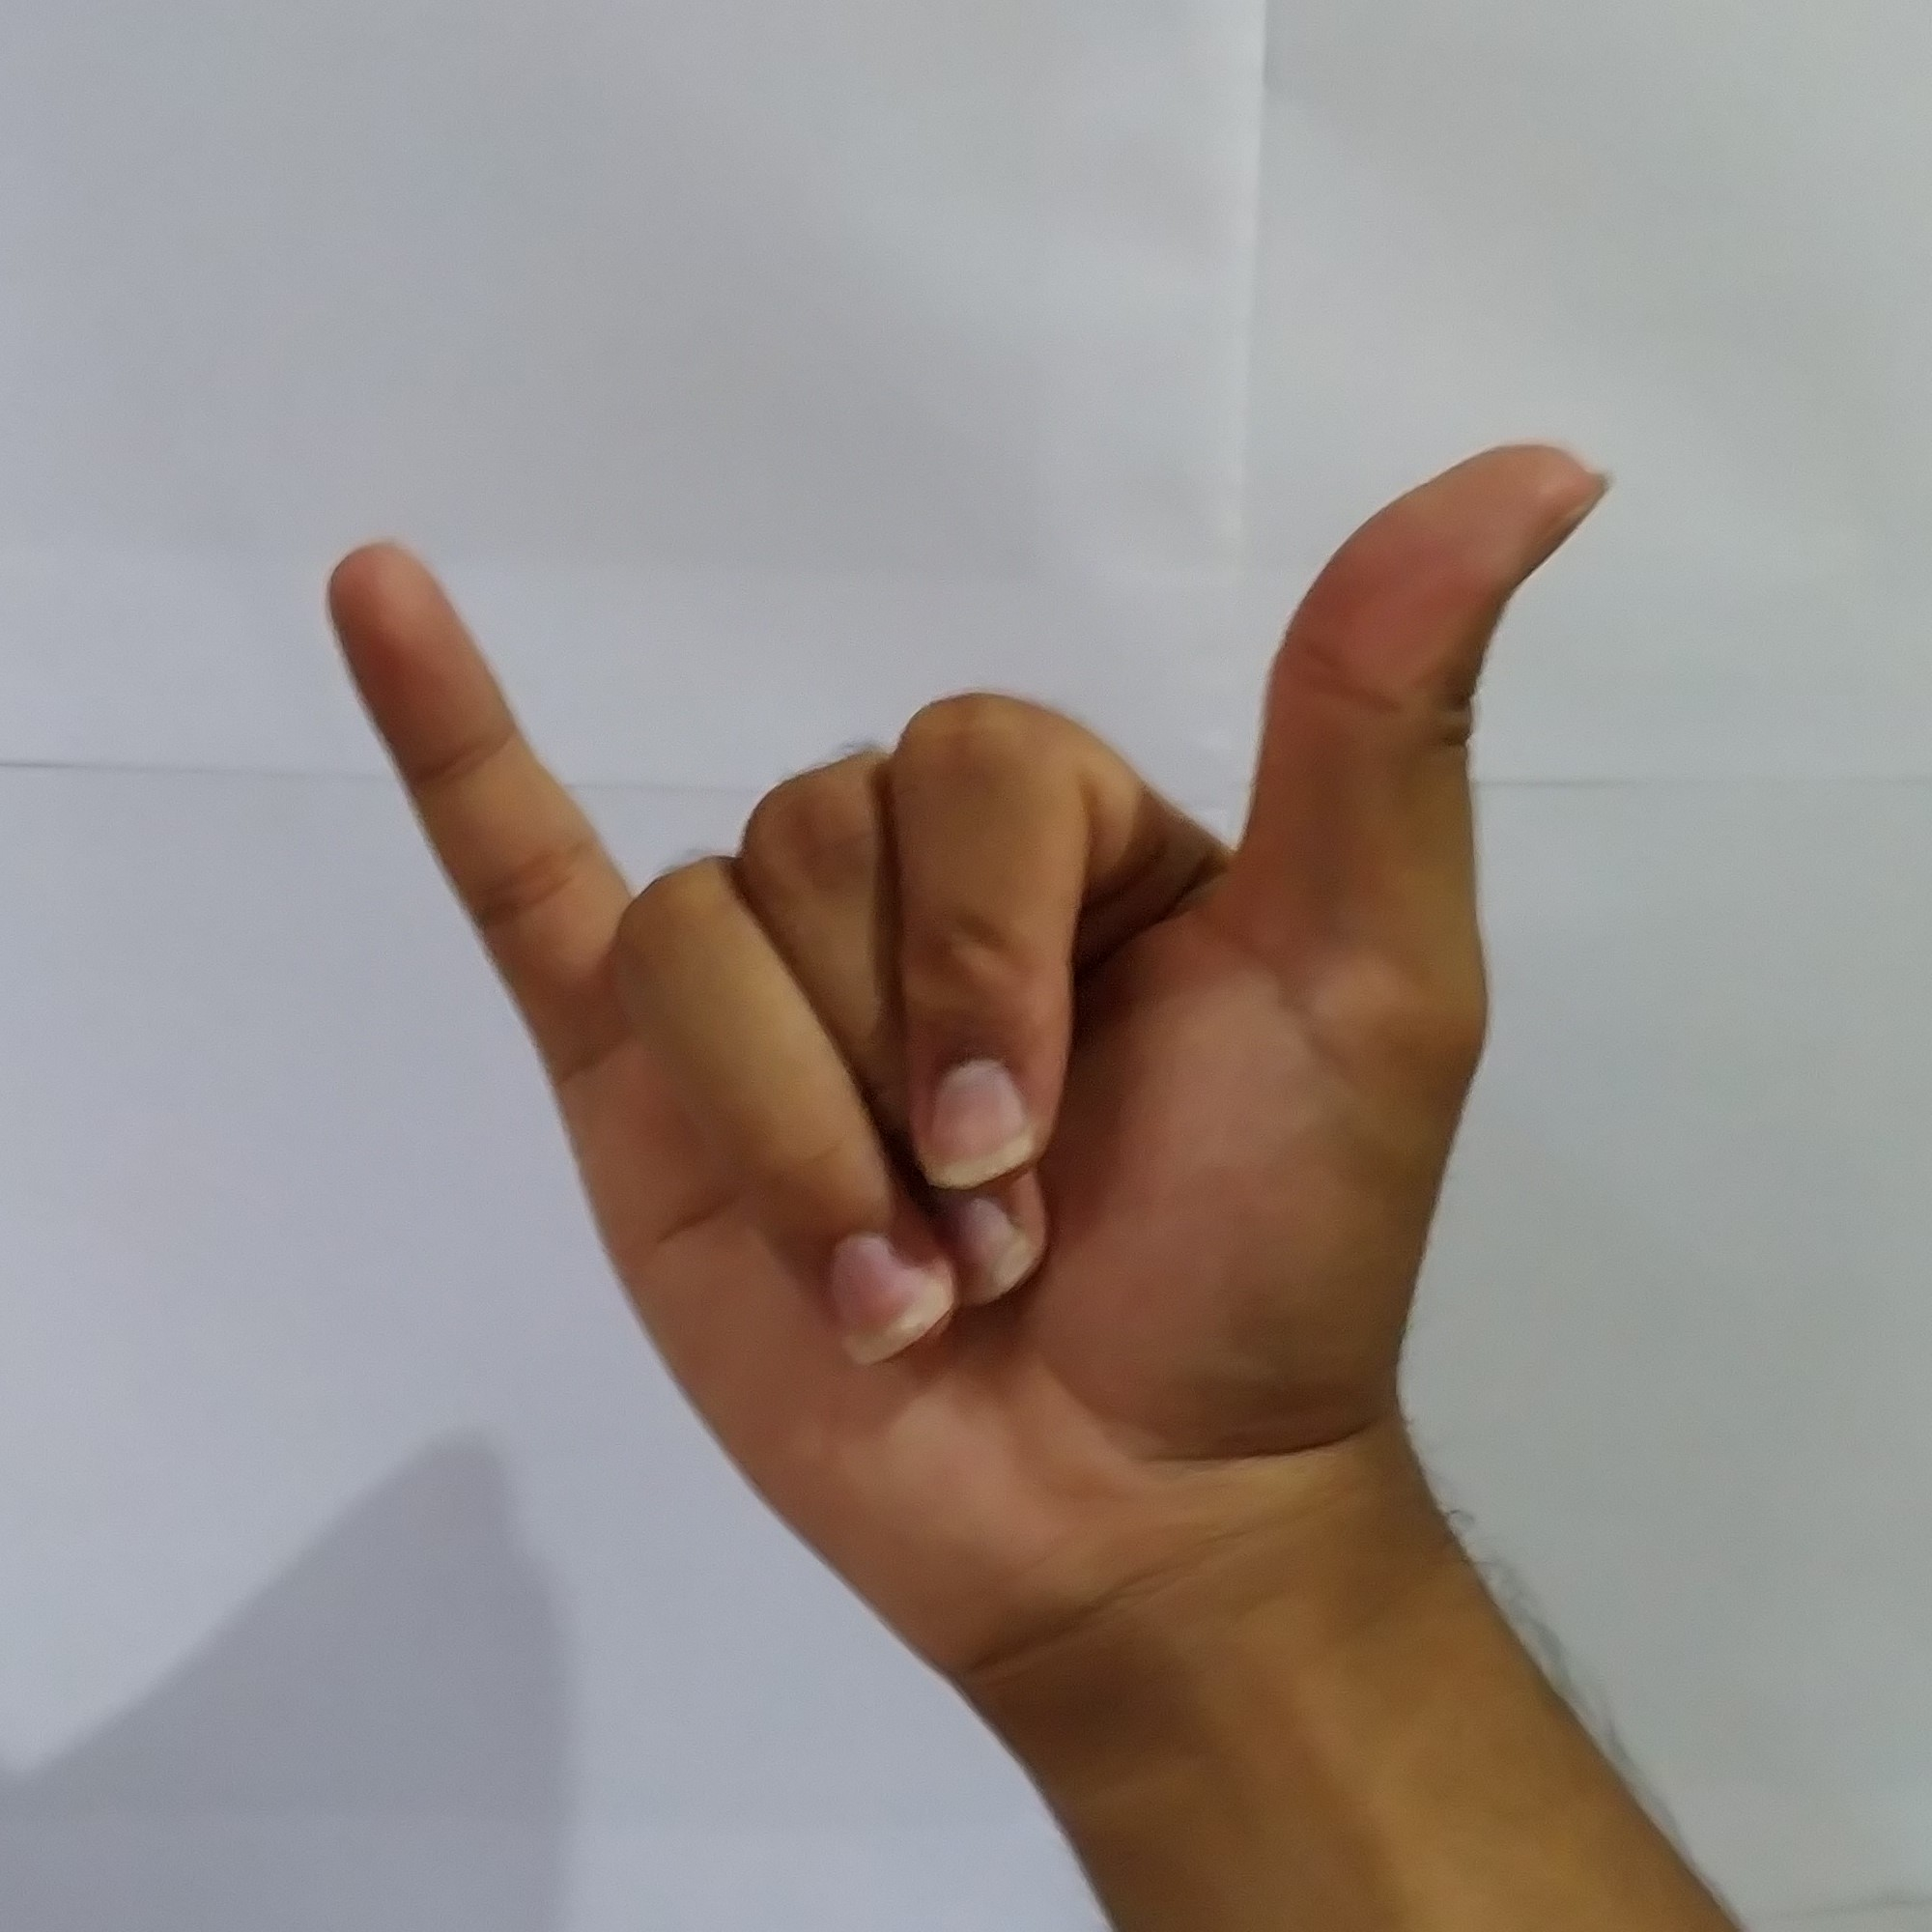Y: (297, 412, 1637, 1647)
